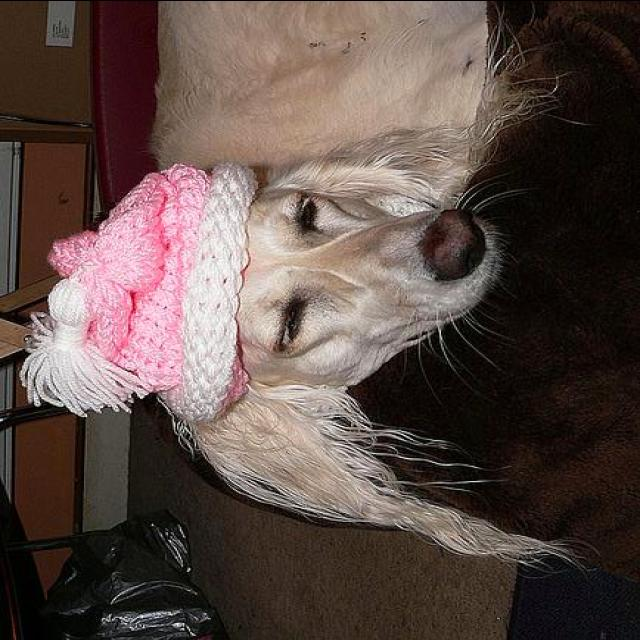saluki: (46, 2, 604, 562)
